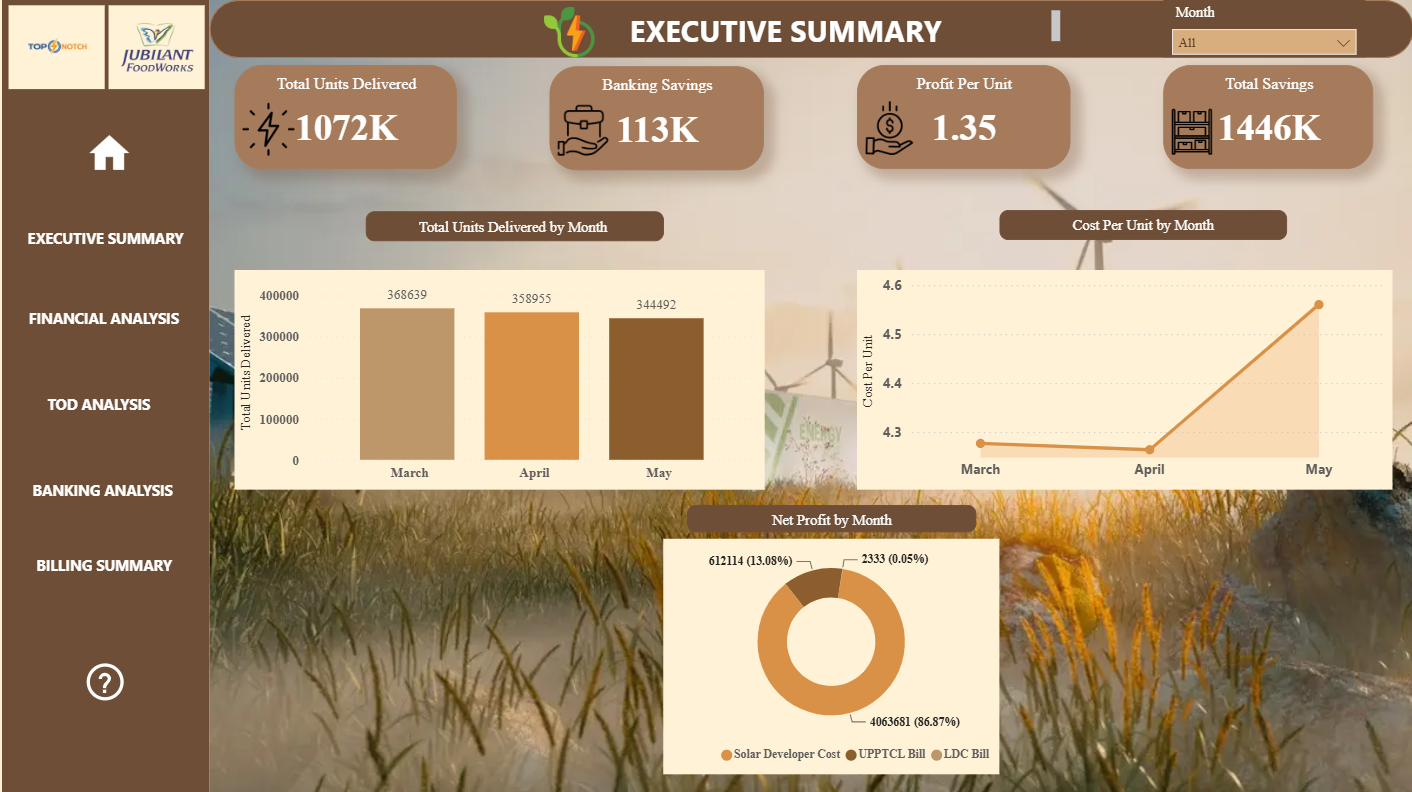

What the dashboard file says about the page in this screenshot:
{"tool":"powerbi","page":{"name":"executive summary","canvas":[1280,720],"ordinal":0},"visuals":[{"type":"card","title":"Total Units Delivered","fields":{"Values":["Energy Summary.Total Units Delivered Measure"]},"box":[210.3,58.7,201.8,94.2],"z":0},{"type":"card","title":"Banking Savings","fields":{"Values":["Energy Summary.Banking Savings Measure"]},"box":[496.5,59.9,194.4,94.2],"z":1000},{"type":"card","title":"Profit Per Unit","fields":{"Values":["Energy Summary.Profit Per Unit Measure"]},"box":[775.3,58.7,193.2,94.2],"z":2000},{"type":"columnChart","title":"Jobs Created with each funding source","fields":{"Category":["Energy Summary.Month.Variation.Date Hierarchy.Month"],"Y":["Energy Summary.Total Units Delivered Measure"]},"box":[210.3,244.6,480.6,199.3],"z":3000},{"type":"lineChart","title":"Initial Investment by different sources","fields":{"Category":["Energy Summary.Month.Variation.Date Hierarchy.Month"],"Y":["Energy Summary.Cost Per Unit Measure"]},"box":[775.3,244.6,485.5,199.3],"z":4000},{"type":"card","title":"Total Savings","fields":{"Values":["Sum(Energy Summary.Net Profit)"]},"box":[1052.9,58.7,190.8,94.2],"z":5000},{"type":"shape","box":[188.3,0,1092,52.6],"z":6000},{"type":"image","box":[775.3,85.6,58.7,59.9],"z":7000},{"type":"image","box":[496.5,85.6,61.1,63.6],"z":8000},{"type":"image","box":[1053.2,84.5,51.9,68.8],"z":9000},{"type":"image","box":[210.3,88,61.1,57.5],"z":10000},{"type":"textbox","box":[904.9,190.8,260.5,26.9],"z":11000},{"type":"textbox","box":[330.2,192,270.2,26.9],"z":12000},{"type":"slicer","fields":{"Values":["Energy Summary.Month"]},"box":[1053.4,0,183.4,52.3],"z":13000},{"type":"textbox","box":[463.5,4.9,501.4,41.6],"z":14000},{"type":"image","box":[23.9,0,63.8,58.5],"z":15000},{"type":"shape","box":[0,0,188.3,720.2],"z":16000},{"type":"image","box":[72.5,113.3,50,51.4],"z":17000},{"type":"actionButton","box":[47.7,102.7,100.3,77],"z":18000},{"type":"actionButton","box":[12.5,190.5,164.3,54.3],"z":19000},{"type":"actionButton","box":[13.9,339.1,164.3,54.3],"z":20000},{"type":"actionButton","box":[12.5,486.2,164.3,52.9],"z":21000},{"type":"textbox","box":[17.9,201.9,154.3,32.9],"z":22000},{"type":"textbox","box":[36.5,352.6,117.1,38.6],"z":23000},{"type":"textbox","box":[26.5,499.1,137.1,28.6],"z":24000},{"type":"actionButton","box":[71.1,596.2,50,44.3],"z":25000},{"type":"actionButton","box":[11.1,417.6,164.3,52.9],"z":26000},{"type":"textbox","box":[22.2,430.8,145.7,28.6],"z":27000},{"type":"actionButton","box":[8.1,262.3,165.3,54.3],"z":28000},{"type":"textbox","box":[19.3,274.4,151.4,38.6],"z":29000},{"type":"image","box":[1.2,0,96.6,85.6],"z":30000},{"type":"image","box":[91.4,0,97.1,85.7],"z":31000},{"type":"donutChart","title":"Initial Investment by different sources","fields":{"Category":["cost estimation.Attribute"],"Y":["Sum(cost estimation.Value)"]},"box":[600,488.8,305,213.8],"z":33000},{"type":"textbox","box":[621.2,457.5,262.5,25],"z":34000},{"type":"image","box":[482.9,0,62.9,58.6],"z":39000}]}

Visuals, with their boxes in screenshot pixels (x1, y1, x2, y2), scaled from the page's 1280x720 canvas onto the 1412x792 screenshot:
"Total Units Delivered" card: bbox=(232, 65, 455, 168)
"Banking Savings" card: bbox=(548, 66, 762, 170)
"Profit Per Unit" card: bbox=(855, 65, 1068, 168)
"Jobs Created with each funding source" columnChart: bbox=(232, 269, 762, 488)
"Initial Investment by different sources" lineChart: bbox=(855, 269, 1391, 488)
"Total Savings" card: bbox=(1161, 65, 1372, 168)
shape: bbox=(208, 0, 1411, 58)
image: bbox=(855, 94, 920, 160)
image: bbox=(548, 94, 615, 164)
image: bbox=(1162, 93, 1219, 169)
image: bbox=(232, 97, 299, 160)
textbox: bbox=(998, 210, 1286, 239)
textbox: bbox=(364, 211, 662, 241)
slicer - Energy Summary.Month: bbox=(1162, 0, 1364, 58)
textbox: bbox=(511, 5, 1064, 51)
image: bbox=(26, 0, 97, 64)
shape: bbox=(0, 0, 208, 791)
image: bbox=(80, 125, 135, 181)
actionButton: bbox=(53, 113, 163, 198)
actionButton: bbox=(14, 210, 195, 269)
actionButton: bbox=(15, 373, 197, 433)
actionButton: bbox=(14, 535, 195, 593)
textbox: bbox=(20, 222, 190, 258)
textbox: bbox=(40, 388, 169, 430)
textbox: bbox=(29, 549, 180, 580)
actionButton: bbox=(78, 656, 134, 705)
actionButton: bbox=(12, 459, 193, 518)
textbox: bbox=(24, 474, 185, 505)
actionButton: bbox=(9, 289, 191, 348)
textbox: bbox=(21, 302, 188, 344)
image: bbox=(1, 0, 108, 94)
image: bbox=(101, 0, 208, 94)
"Initial Investment by different sources" donutChart: bbox=(662, 538, 998, 773)
textbox: bbox=(685, 503, 975, 531)
image: bbox=(533, 0, 602, 64)
